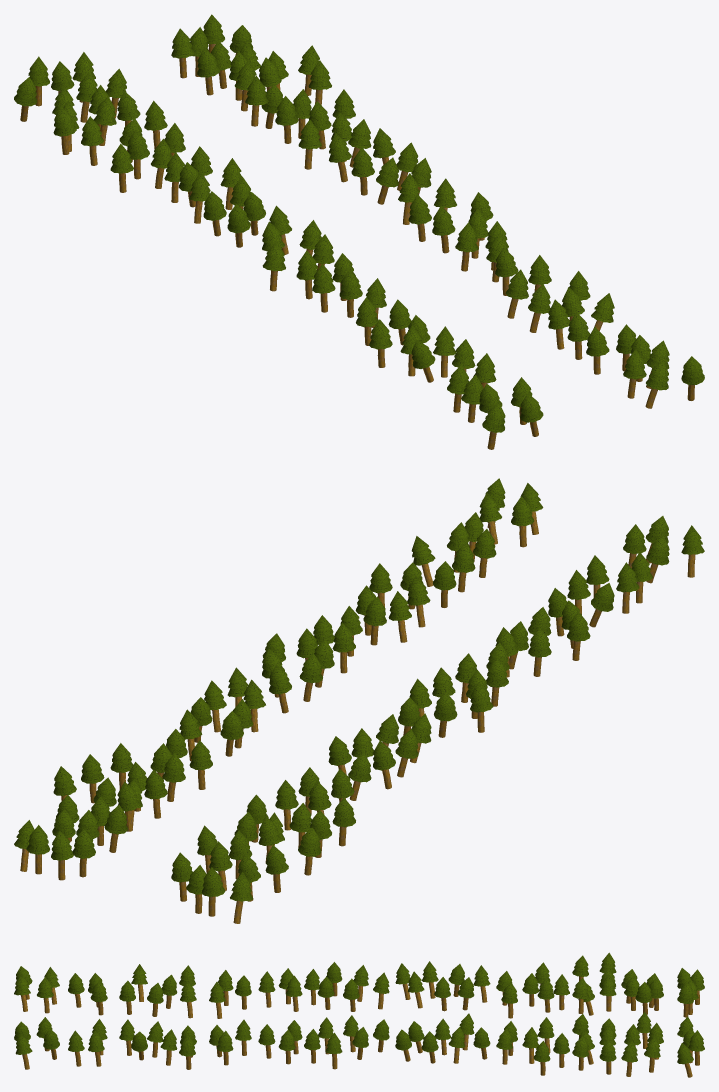
File: m100_tree.fbx
3 views of the same model, one above another, from view 1: azimuth 30°, elevation 25°; view 2: azimuth 150°, elevation 25°; view 3: azimuth 270°, elevation 25° (orthographic). The views are drawn at different scales.
Visible parts, largest first — view 1: ki6; view 2: ki6; view 3: ki6.
Part boxes in pixels (x1,y1,x2,y2): ki6: [14, 14, 704, 449]; ki6: [14, 478, 704, 923]; ki6: [14, 952, 704, 1077].
Size of the model in its own units: 3174 by 709 by 9977.
Materials: 1 (1 with a texture image).
